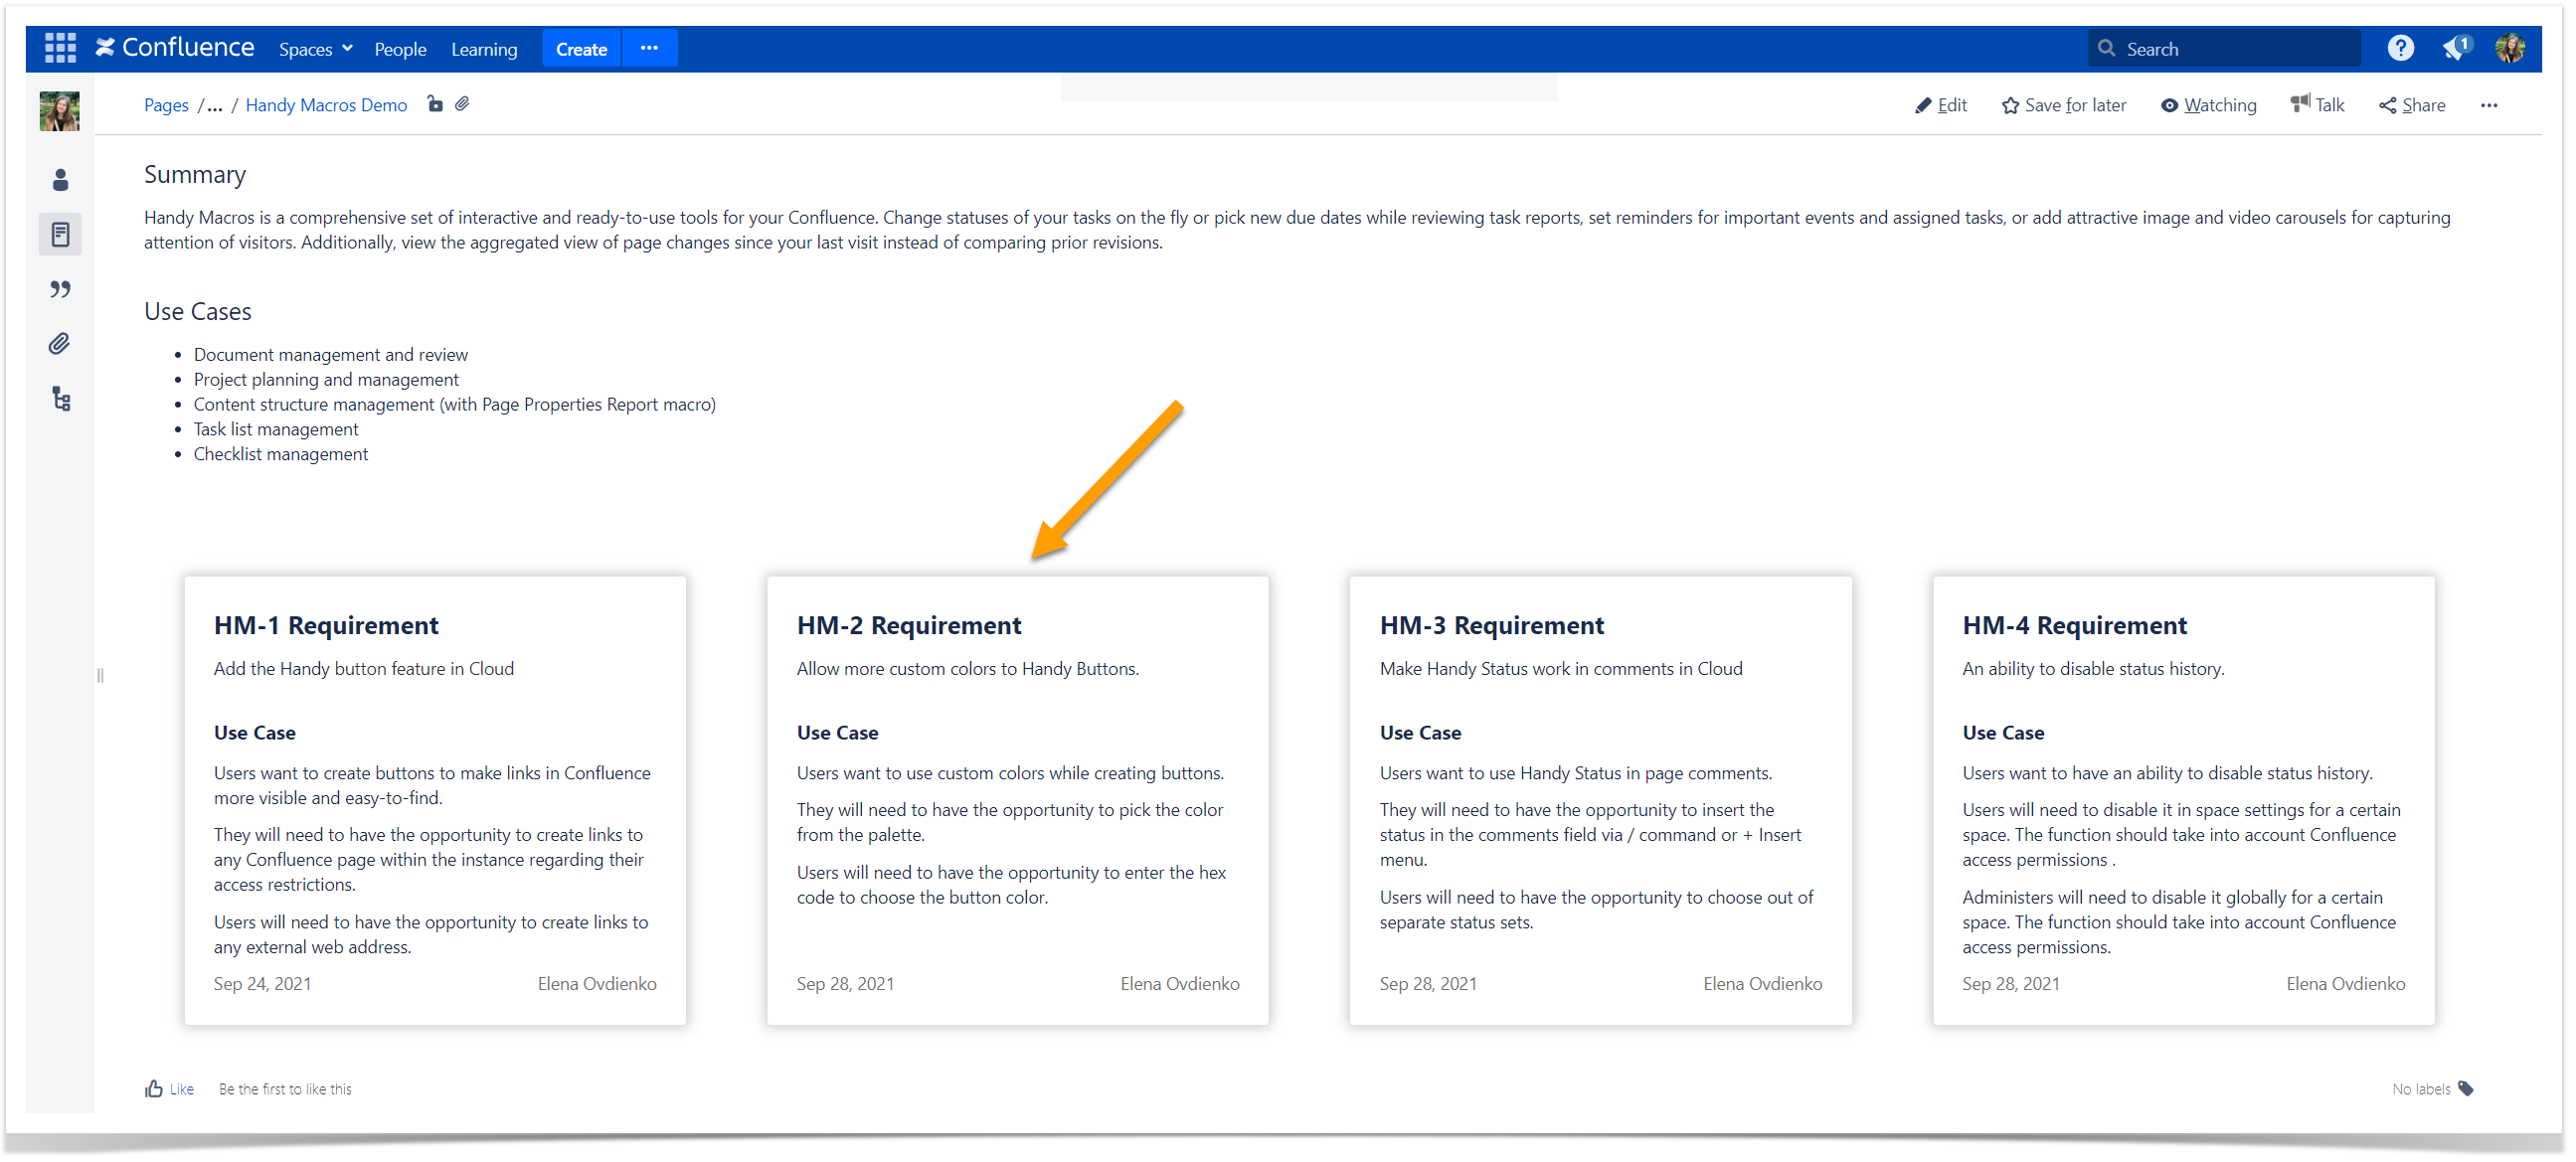button_create: (540, 28, 624, 74)
search_box: (2086, 26, 2372, 71)
